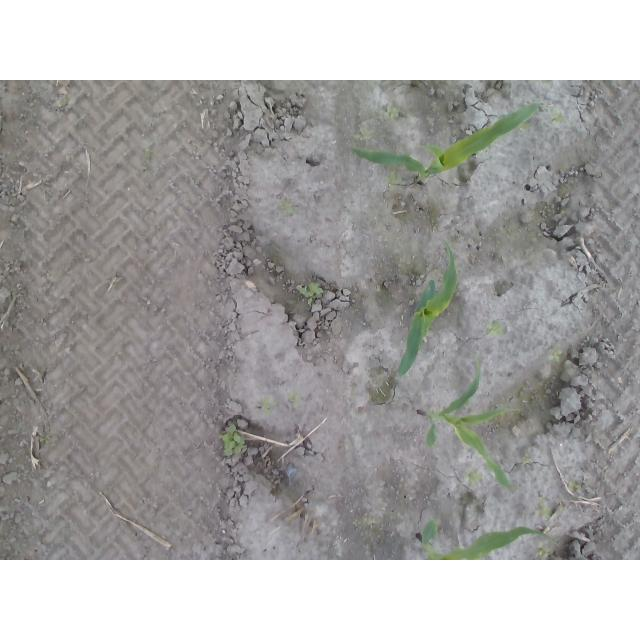Maize: (354, 102, 542, 189), (417, 361, 520, 492), (395, 241, 457, 380), (416, 520, 549, 561)
Weeds: (222, 422, 247, 457), (298, 281, 326, 303), (352, 126, 377, 141), (536, 498, 553, 519), (486, 323, 506, 338), (382, 174, 402, 186), (464, 472, 485, 482), (382, 109, 400, 120), (547, 350, 562, 363), (567, 480, 580, 493), (537, 549, 552, 560), (551, 111, 561, 122)
